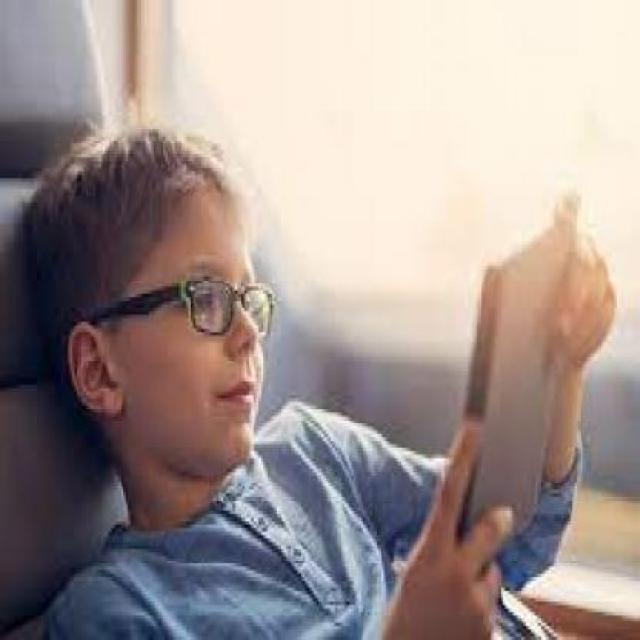mask: (177, 269, 277, 346)
